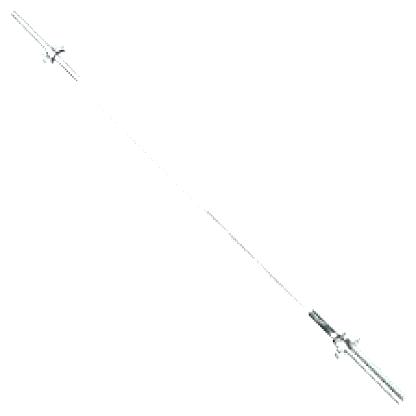Barbell: (385, 380, 412, 414)
